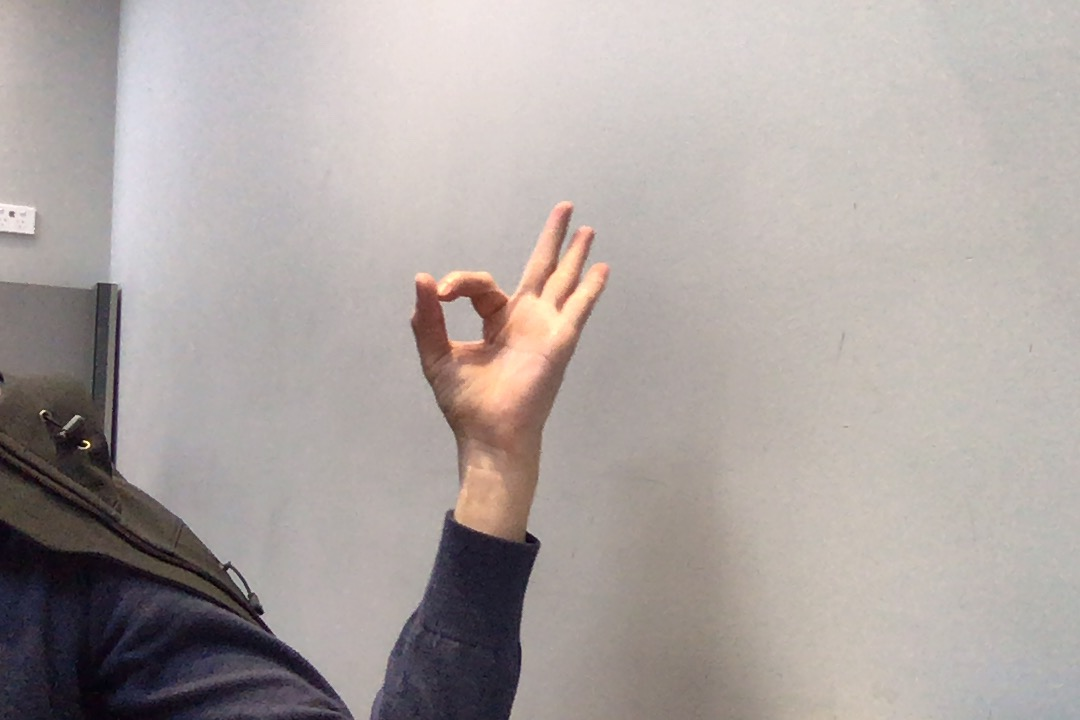oksign: (396, 189, 621, 456)
